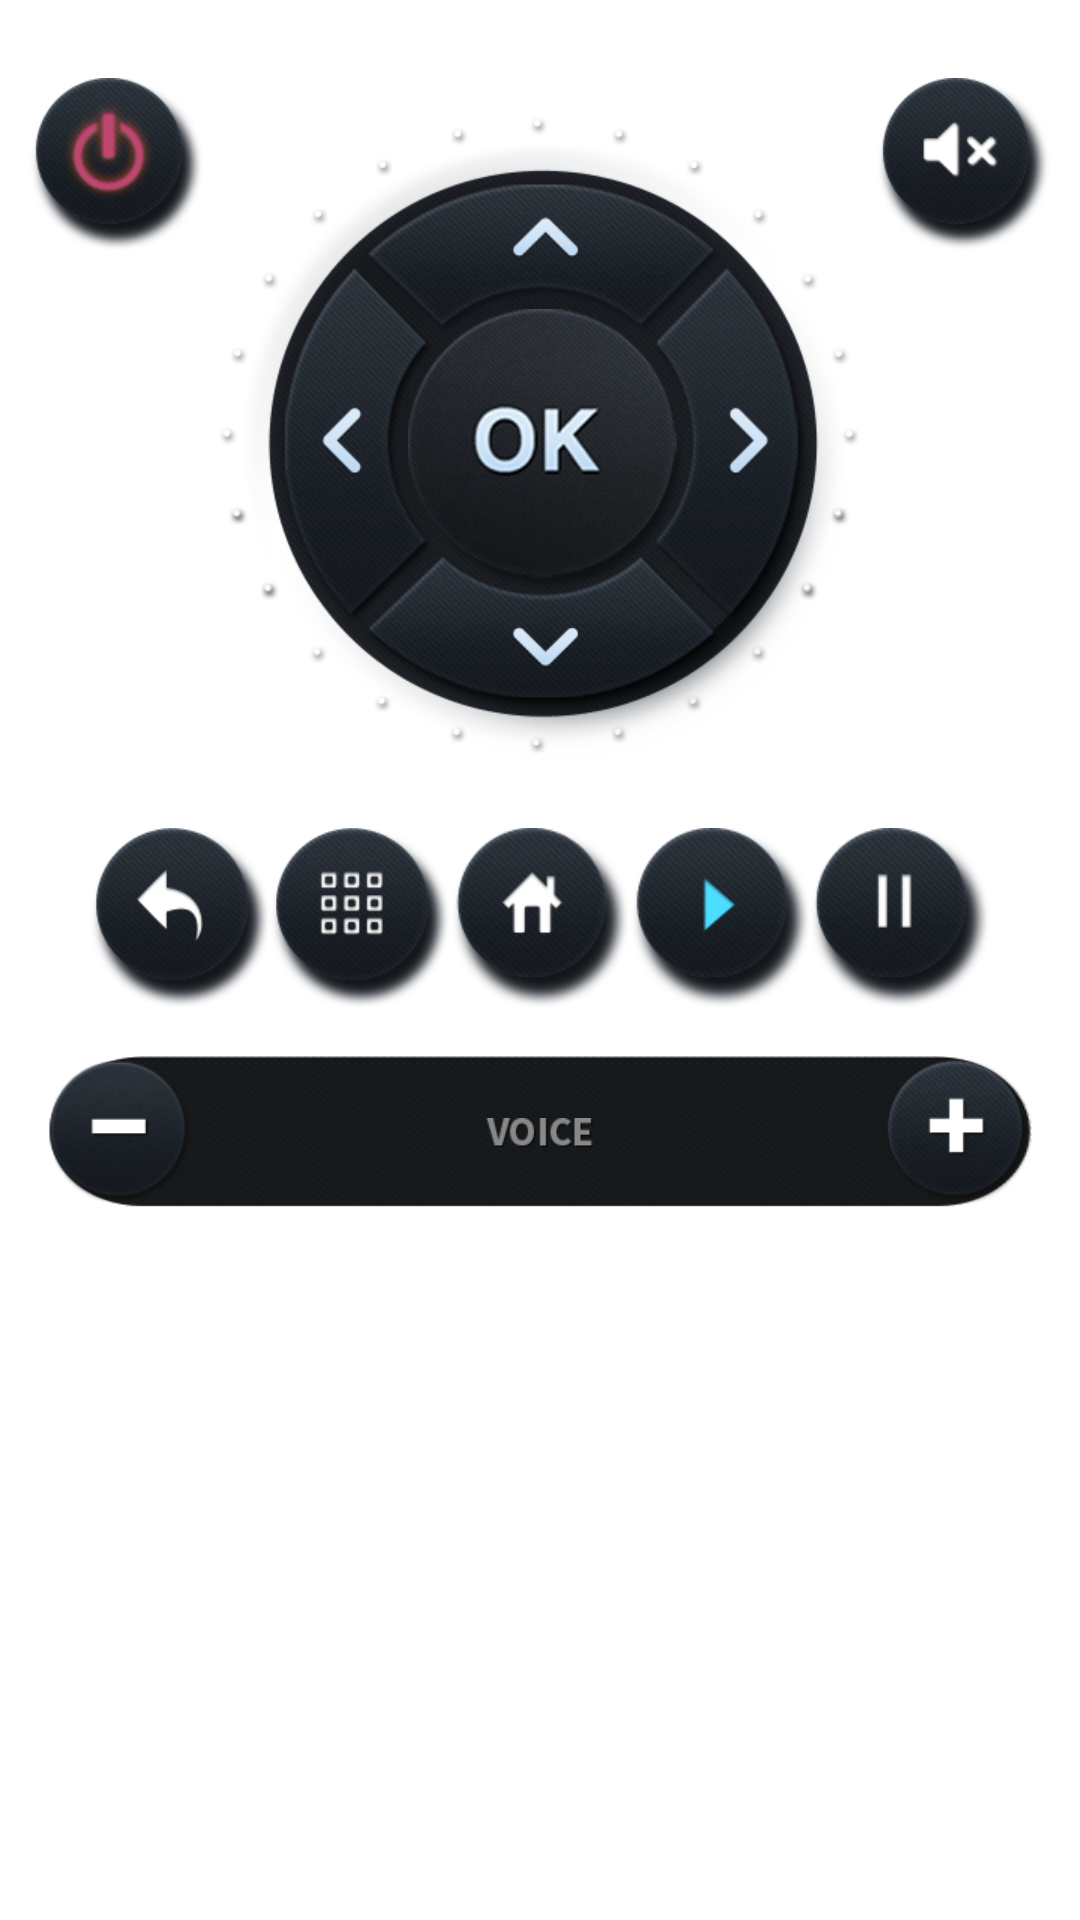

Named icons in this screenshot (1080px x 1920px) and their centers, [x,y]:
remotetypearrowup: [544,259]
remotetypeback: [180,915]
remotetypehome: [540,915]
remotetypemenu: [360,915]
remotetypemute: [963,161]
remotetypepause: [900,915]
remotetypeplay: [720,915]
remotetypeshutdown: [117,162]
remotetypevolumeup: [958,1132]
